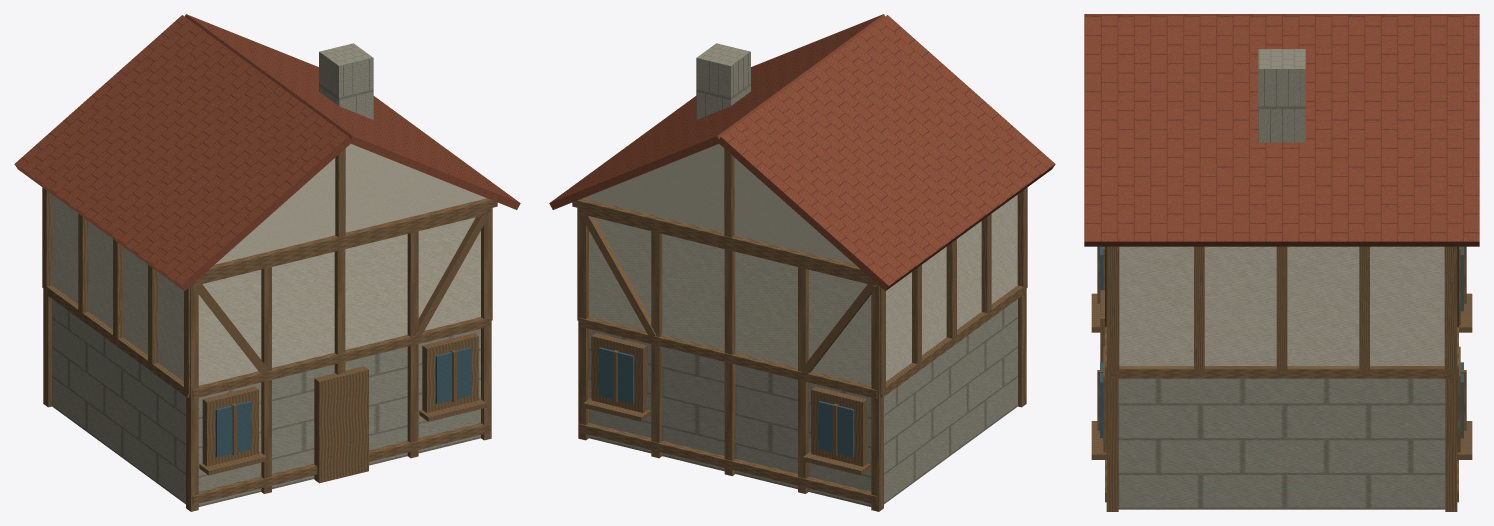
The picture shows the model from 3 angles, left to right: view 1: azimuth 30°, elevation 25°; view 2: azimuth 150°, elevation 25°; view 3: azimuth 270°, elevation 25°; orthographic projection. The views are drawn at different scales.
Visible parts, largest first — view 1: house-roof, house-wood, house-plaster, house-stone, house-glass; view 2: house-roof, house-plaster, house-wood, house-stone, house-glass; view 3: house-roof, house-stone, house-plaster, house-wood, house-glass.
Boxes of the visible parts, box(x1,y1,x2,y2) form: house-roof: box(14, 14, 520, 291); house-wood: box(42, 148, 497, 511); house-plaster: box(52, 144, 486, 385); house-stone: box(52, 43, 480, 506); house-glass: box(215, 347, 471, 457); house-roof: box(549, 14, 1055, 291); house-plaster: box(583, 144, 1017, 385); house-wood: box(572, 148, 1027, 511); house-stone: box(589, 43, 1017, 506); house-glass: box(598, 347, 854, 457); house-roof: box(1084, 14, 1479, 246); house-stone: box(1118, 49, 1445, 509); house-plaster: box(1119, 246, 1444, 365); house-wood: box(1091, 246, 1472, 511); house-glass: box(1100, 246, 1463, 438).
Size of the model in its own units: 7.88 by 7.7 by 6.7.
Materials: 5 (5 with a texture image).
